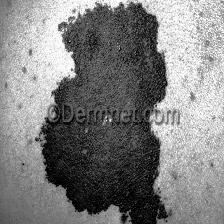Benign Marking or Mole: (36, 0, 172, 224)
